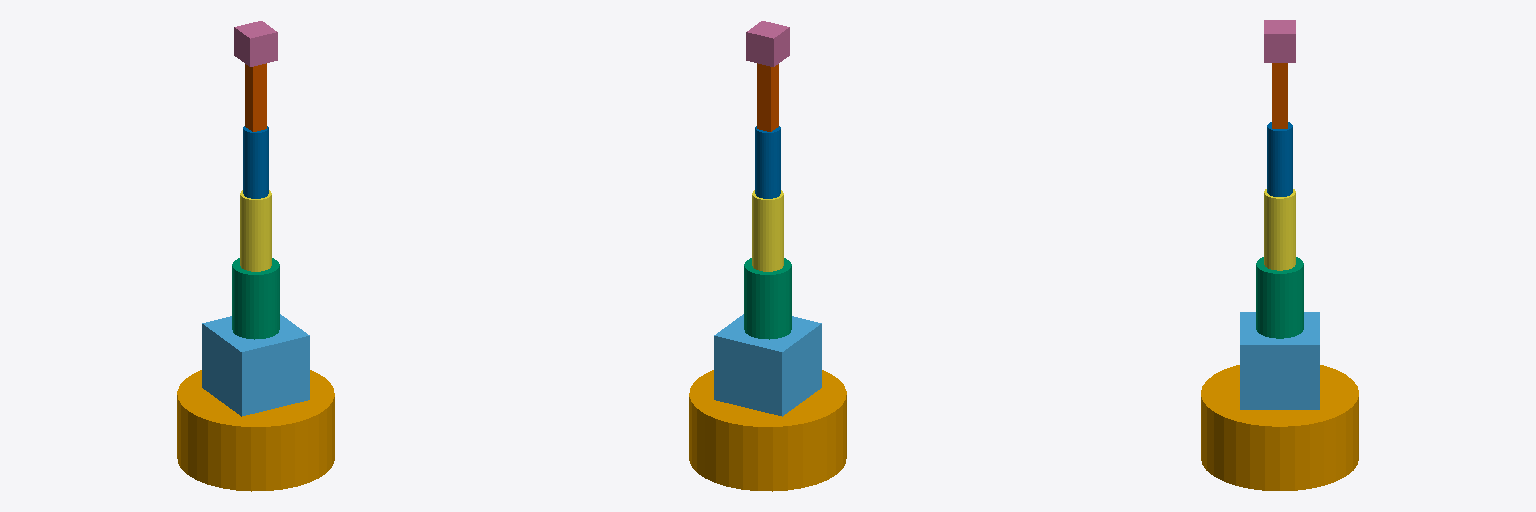
URDF robot description (5DOF_Robot_By_Rohith_Kini_T):
<?xml version="1.0"?>
<robot name="5DOF_Robot_By_Rohith_Kini_T">

<!-- Base Link -->
<link name="base_link">
		<visual>
		    <origin xyz="0 0 22.5" rpy="0 0 0"/>
			<geometry>
				<cylinder length="45" radius="50"/>
			</geometry>
		</visual>	
	</link>

<link name="Base_Rotary">
  <visual>
    <geometry>
      <box size="50 50 45" />
    </geometry>
  </visual>	
</link>
    
<joint name="Base_Joint" type="revolute">
  <parent link="base_link"/>
  <child link="Base_Rotary"/>
  <origin xyz="0 0 67.5" rpy="0 0 0" />
  <axis xyz="0 0 1"/>
  <limit lower="-1.571" upper="1.571"/>
</joint>

<link name="Arm1">
  <visual>
  <origin xyz="0 0 22.5" rpy="0 0 0"/>
    <geometry>
      <cylinder length="45" radius="15"/>
    </geometry>
  </visual>
</link>

<joint name="Arm1_Rotary" type="revolute">
  <parent link="Base_Rotary"/>
  <child link="Arm1"/>
  <origin xyz="0 0 22.5" rpy="0 0 0"/>
  <axis xyz="1 0 0"/>
  <limit lower="-1.571" upper="1.571"/>
</joint>

<link name="Arm2">
  <visual>
  <origin xyz="0 0 25" rpy="0 0 0"/>
    <geometry>
      <cylinder length="50" radius="10"/>
    </geometry>
  </visual>
</link>

<joint name="Arm2_Rotary" type="revolute">
  <parent link="Arm1"/>
  <child link="Arm2"/>
  <origin xyz="0 0 45" rpy="0 0 0"/>
  <axis xyz="1 0 0"/>
  <limit lower="-1.571" upper="1.571"/>
</joint>

<link name="Arm3">
  <visual>
  <origin xyz="0 0 23" rpy="0 0 0"/>
    <geometry>
      <cylinder length="46" radius="8"/>
    </geometry>
  </visual>
</link>

<joint name="Arm3_Rotary" type="revolute">
  <parent link="Arm2"/>
  <child link="Arm3"/>
  <origin xyz="0 0 50" rpy="0 0 0"/>
  <axis xyz="1 0 0"/>
  <limit lower="-1.571" upper="1.571"/>
</joint>

<link name="Arm4">
  <visual>
  <origin xyz="0 0 33.85" rpy="0 0 0"/>
    <geometry>
      <box size = "10 10 68.7"/>
    </geometry>
  </visual>
</link>

<joint name="Arm4_Rotary" type="revolute">
  <parent link="Arm3"/>
  <child link="Arm4"/>
  <origin xyz="0 0 46" rpy="0 0 0"/>
  <axis xyz="0 0 1"/>
  <limit lower="-1.571" upper="1.571"/>
</joint>

<link name="Gripper">
  <visual>
  <origin xyz="0 0 -10" rpy="0 0 0"/>
    <geometry>
      <box size = "20 20 20"/>
    </geometry>
  </visual>
</link>

<joint name ="Gripper" type="fixed">
  <parent link="Arm4"/>
  <child link="Gripper"/>
  <origin xyz="0 0 68.7" rpy="0 0 0"/>
</joint>

</robot>

--- Facts derived from the render (not from the file) ---
3 views of the same robot in one strip: view 1: azimuth 30°, elevation 25°; view 2: azimuth 150°, elevation 25°; view 3: azimuth 270°, elevation 25° (orthographic).
Robot: 5DOF_Robot_By_Rohith_Kini_T — 7 links, 6 joints (5 revolute, 1 fixed); root link base_link; default pose: all joints at 0.
Links seen in each view (by area): view 1: base_link, Base_Rotary, Arm1, Arm2, Arm3, Gripper, Arm4; view 2: base_link, Base_Rotary, Arm1, Arm2, Arm3, Gripper, Arm4; view 3: base_link, Base_Rotary, Arm1, Arm2, Arm3, Gripper, Arm4.
Link boxes in pixels (x1,y1,x2,y2): base_link: [177, 370, 334, 491]; Base_Rotary: [202, 314, 309, 416]; Arm1: [232, 258, 279, 339]; Arm2: [240, 190, 271, 271]; Arm3: [243, 126, 268, 198]; Gripper: [234, 21, 277, 66]; Arm4: [245, 63, 266, 131]; base_link: [689, 370, 846, 491]; Base_Rotary: [714, 314, 821, 416]; Arm1: [744, 258, 791, 339]; Arm2: [752, 190, 783, 271]; Arm3: [755, 126, 780, 198]; Gripper: [746, 21, 789, 66]; Arm4: [757, 63, 778, 131]; base_link: [1201, 365, 1358, 490]; Base_Rotary: [1240, 312, 1319, 409]; Arm1: [1256, 257, 1303, 338]; Arm2: [1264, 189, 1295, 270]; Arm3: [1267, 122, 1292, 196]; Gripper: [1264, 20, 1295, 62]; Arm4: [1272, 63, 1287, 128].
Size in the robot's own frame: 100 by 100 by 300 metres.
Geometry: primitives only (box / cylinder / sphere), no mesh files.
